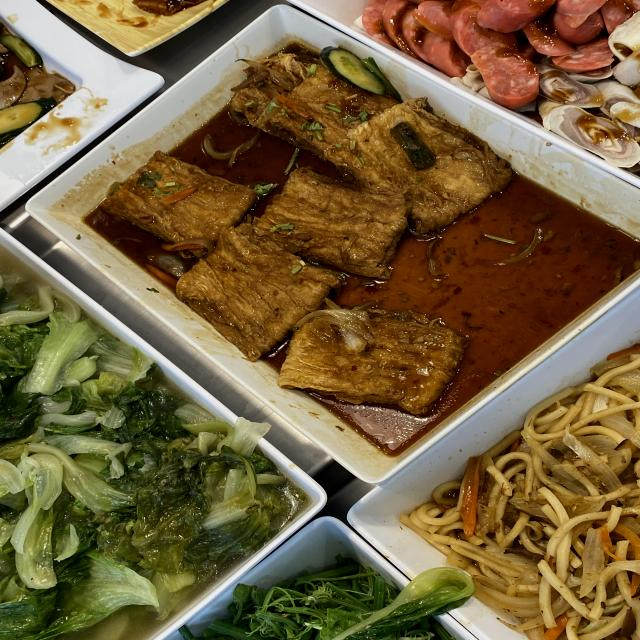bean bag: (208, 129, 459, 316)
